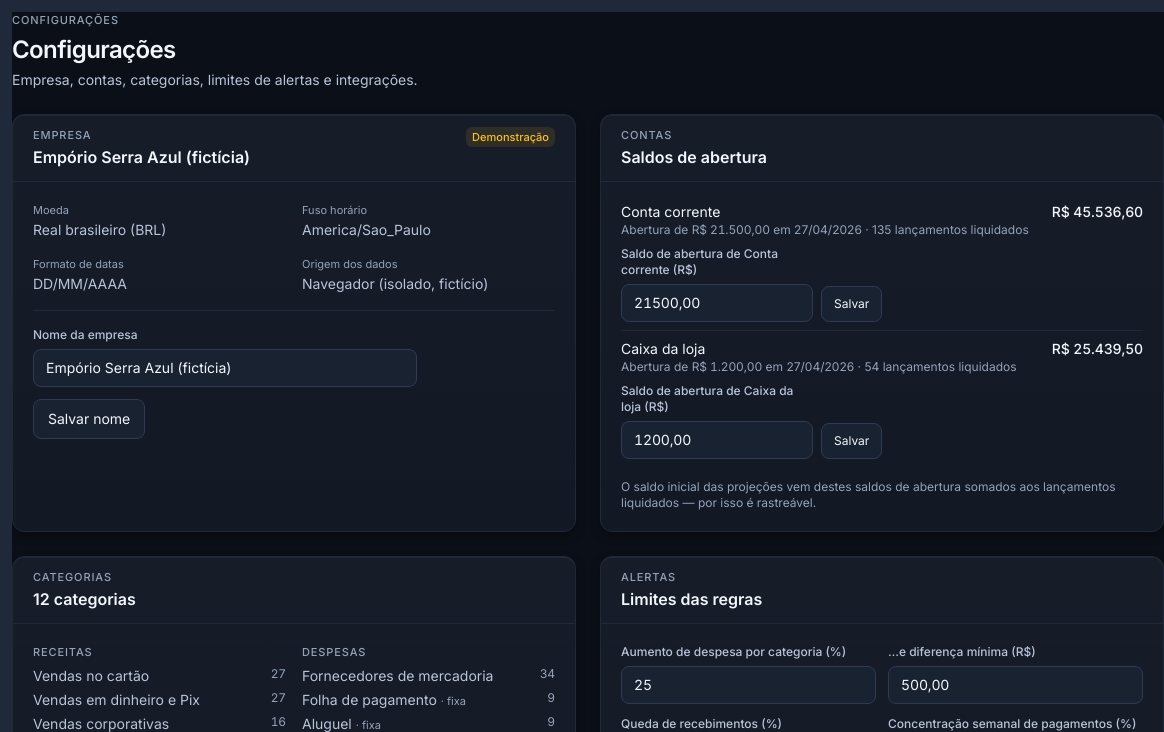
Scenario: configurações da empresa › edita o nome da empresa no modo demonstração
Step 1. Replace the text in the field labelled "Nome da empresa" with "Padaria Central" → (225, 368), box [33,349,417,387]
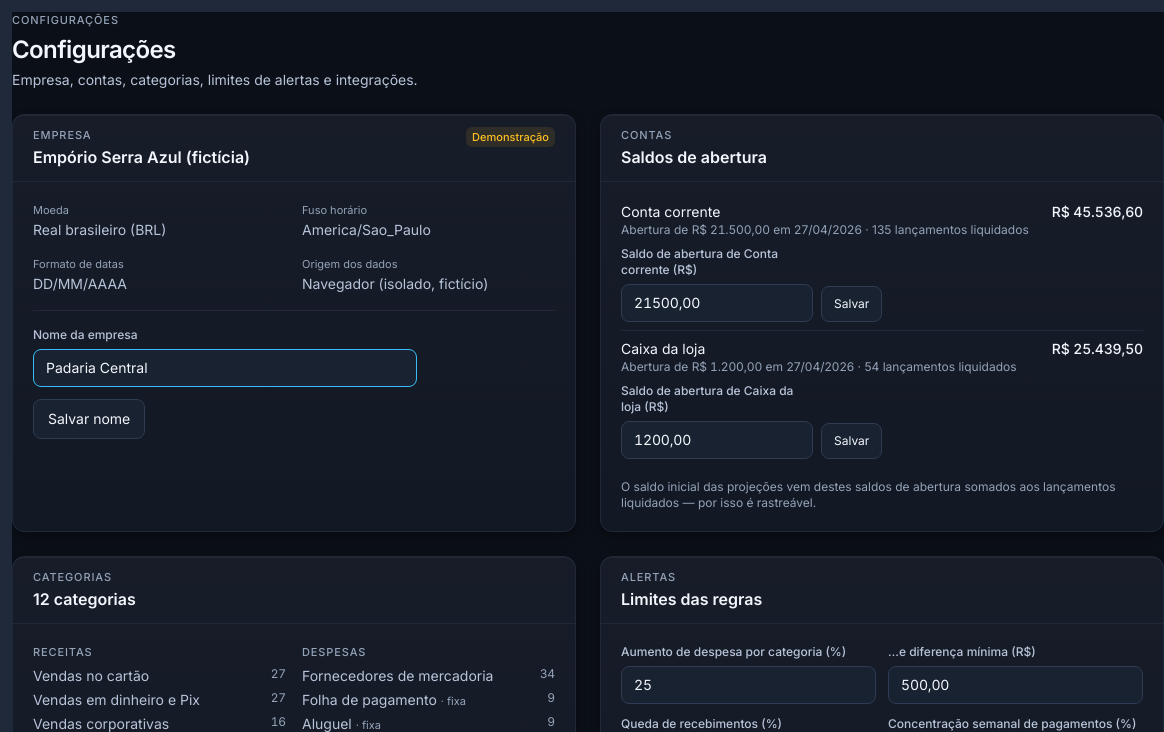
Step 2. Click the button "Salvar nome" → (89, 419), box [33,399,145,439]
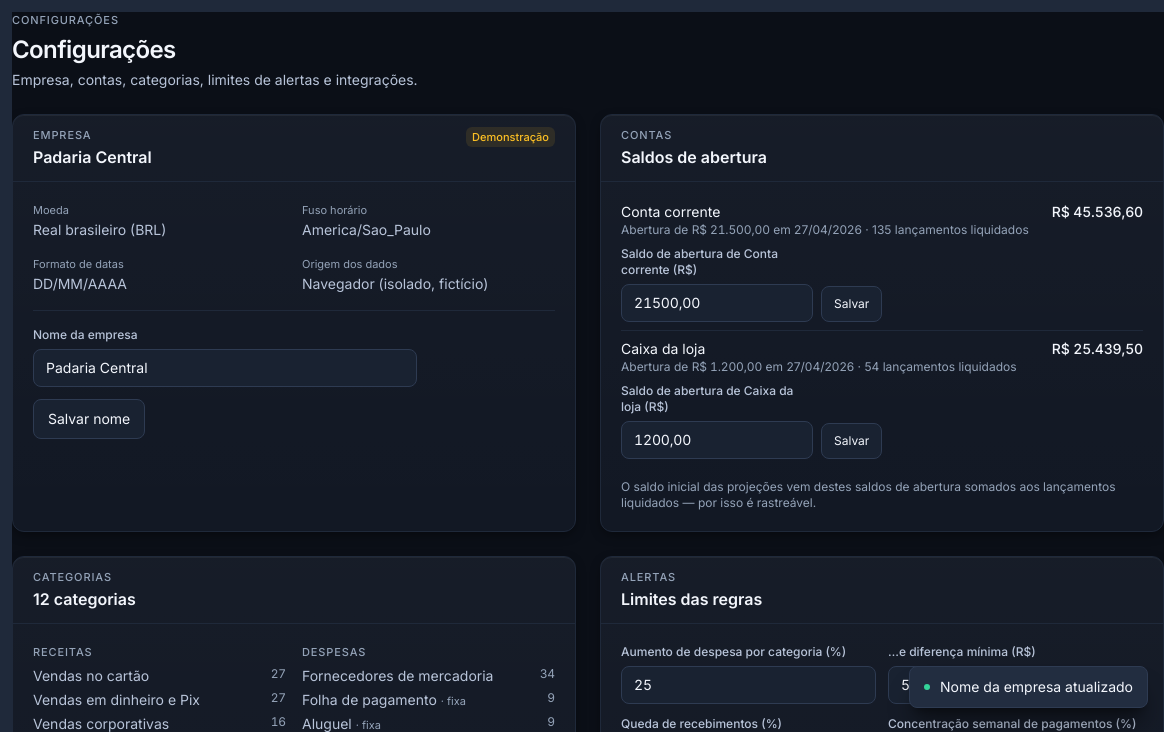
Result: the heading "Padaria Central" is shown at [33,145,152,169]
